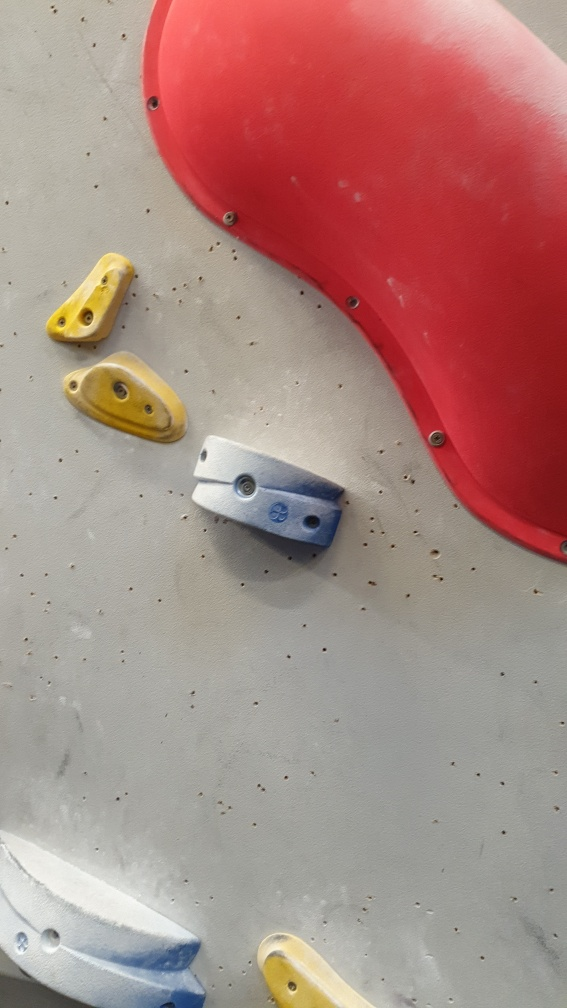Crimp: (78, 360, 177, 442), (52, 259, 134, 350), (256, 937, 358, 1008)
Pinch: (1, 820, 206, 1006), (190, 431, 347, 549)
